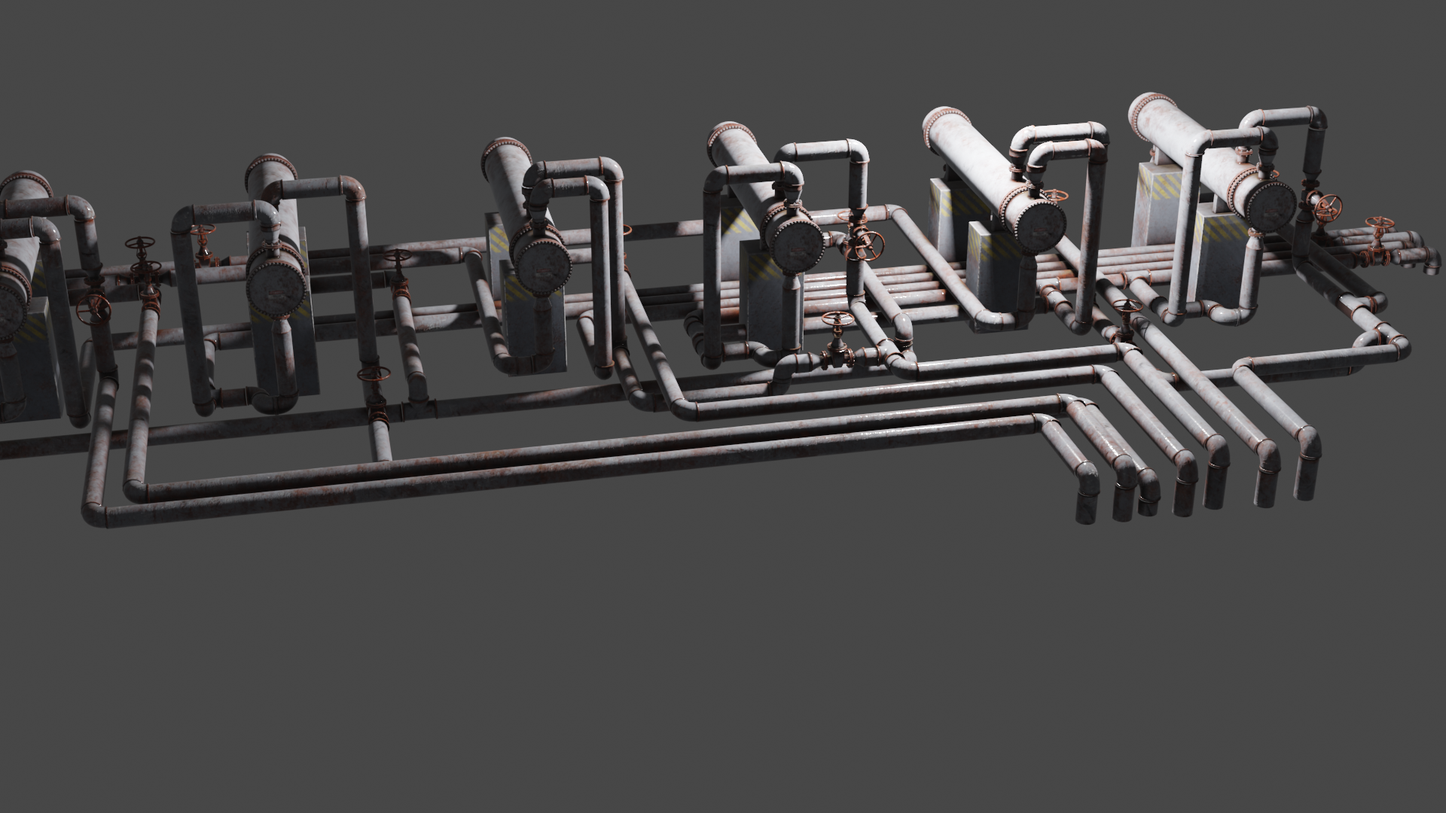HE_1: (1, 169, 52, 337)
HE_2: (245, 148, 307, 316)
HE_3: (479, 131, 570, 293)
HE_4: (708, 114, 825, 272)
HE_5: (917, 99, 1061, 247)
HE_6: (1122, 85, 1298, 233)
